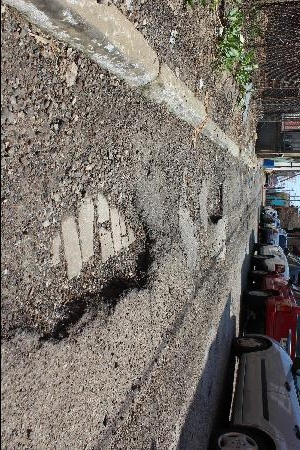pothole: (1, 174, 154, 352), (205, 179, 227, 226)
